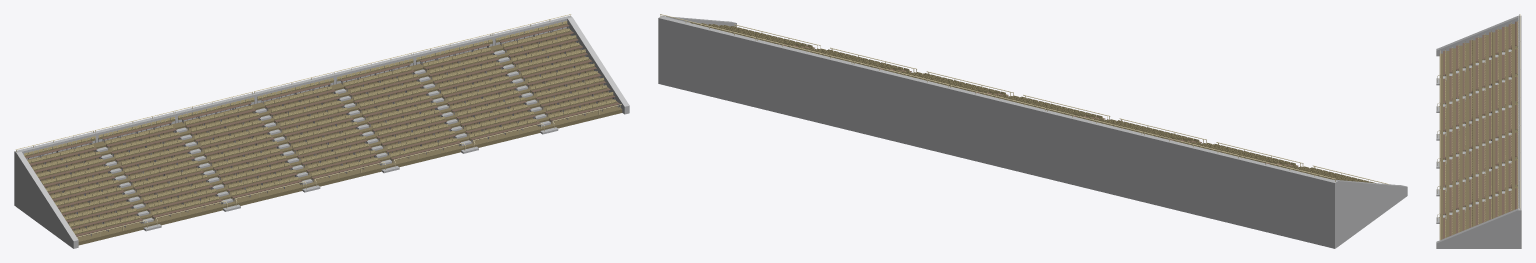
The model's file is Grandstand.fbx.
The picture shows the model from 3 angles, left to right: view 1: azimuth 30°, elevation 25°; view 2: azimuth 150°, elevation 25°; view 3: azimuth 270°, elevation 25°; orthographic projection. The views are drawn at different scales.
Parts seen in each view (by area): view 1: Bucket Seats, Rows, Bleachers, Steps, Legs, Stand_Back._Left, Stand_Back_ Right, Stand SIde_Left, Top SIde_Right., Top side_Left, Top Rails, Front Rail (+2 smaller); view 2: Stand_Back._Left, Stand_Back_ Right, Bucket Seats, Stand SIde_Left, Top Rails, Front Rail, Top side_Left; view 3: Rows, Bleachers, Bucket Seats, Stand SIde_Right, Steps, Top side_Left, Top SIde_Right., Stand_Back_ Right, Stand_Back._Left, Top Rails, Front Rail, Legs (+2 smaller).
Boxes of the visible parts, box(x1,y1,x2,y2) form: Bucket Seats: box(24, 21, 616, 236); Rows: box(27, 28, 622, 245); Bleachers: box(25, 24, 619, 236); Steps: box(95, 50, 550, 223); Legs: box(39, 26, 618, 236); Stand_Back._Left: box(14, 74, 334, 206); Stand_Back_ Right: box(332, 15, 571, 84); Stand SIde_Left: box(16, 159, 71, 246); Top SIde_Right.: box(567, 17, 626, 108); Top side_Left: box(16, 151, 75, 242); Top Rails: box(15, 14, 570, 151); Front Rail: box(77, 104, 621, 237); Stand_Back._Left: box(948, 87, 1337, 248); Stand_Back_ Right: box(658, 16, 950, 154); Bucket Seats: box(688, 22, 1376, 183); Stand SIde_Left: box(1338, 187, 1404, 246); Top Rails: box(660, 14, 1336, 181); Front Rail: box(734, 24, 1388, 184); Top side_Left: box(1333, 179, 1404, 193); Rows: box(1439, 24, 1517, 239); Bleachers: box(1443, 21, 1517, 238); Bucket Seats: box(1445, 20, 1518, 237); Stand SIde_Right: box(1439, 214, 1518, 248); Steps: box(1443, 49, 1511, 219); Top side_Left: box(1439, 16, 1518, 53); Top SIde_Right.: box(1439, 208, 1518, 245); Stand_Back_ Right: box(1518, 126, 1521, 248); Stand_Back._Left: box(1518, 15, 1521, 126); Top Rails: box(1519, 14, 1520, 209); Front Rail: box(1440, 50, 1440, 239); Legs: box(1443, 46, 1517, 214).
Bounding box in the file's own units: 70.11 × 6.82 × 13.
